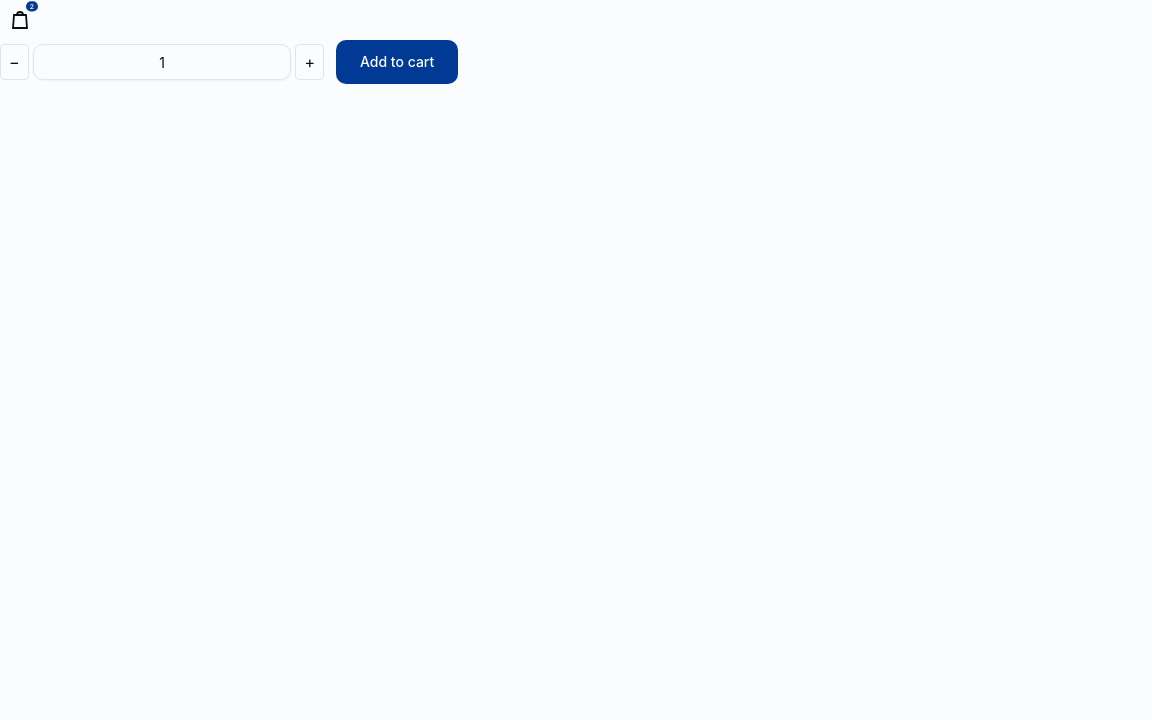
Test: cart UI › changes quantities and removes lines through the API
What coordinates should you click on to do the following:
click the button named "Open cart (2 items)"
I would click on:
 (20, 20)
Its box is 0,0 -> 40,40.
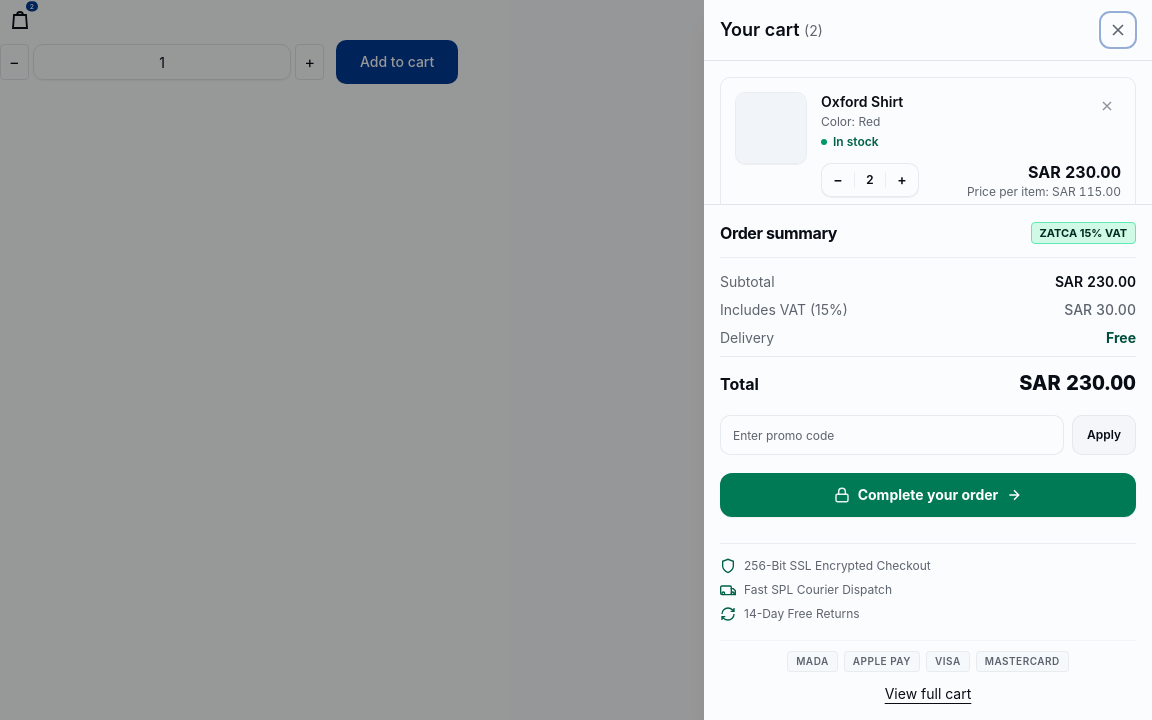
What coordinates should you click on to do the following:
click the button named "Fewer Oxford Shirt"
I would click on:
 (838, 180)
Its box is 822,164 -> 854,196.
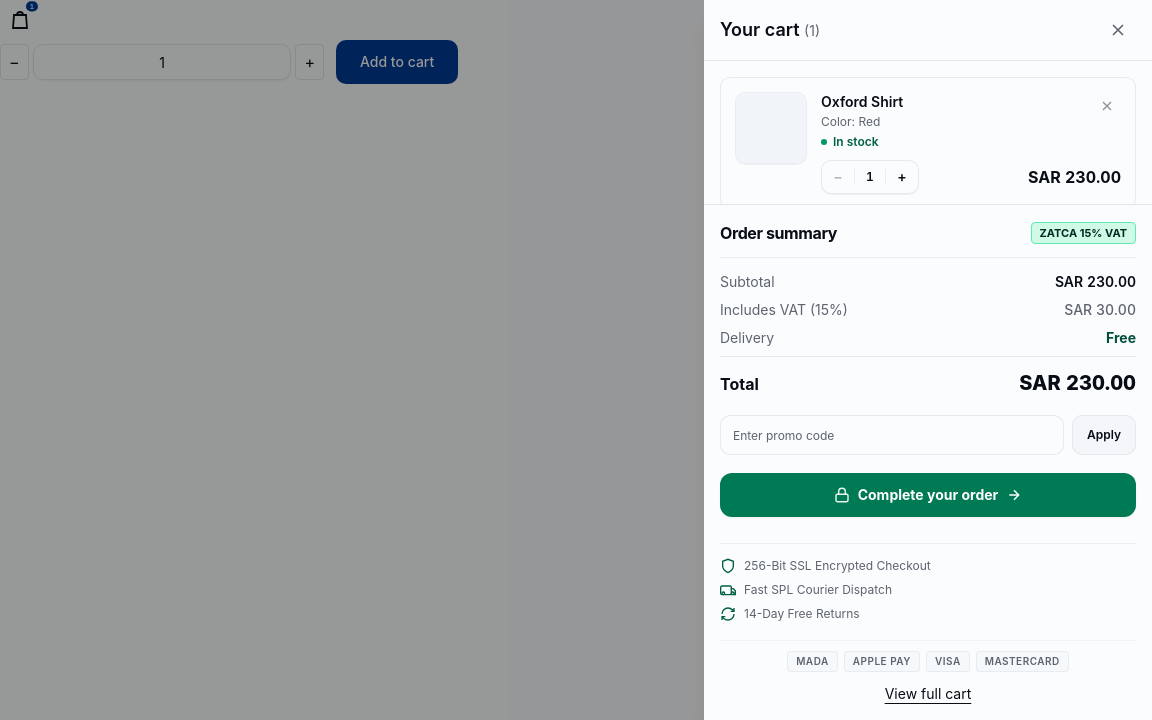
What coordinates should you click on to do the following:
click the button named "Remove Oxford Shirt"
I would click on:
 (1107, 106)
Its box is 1093,92 -> 1121,120.
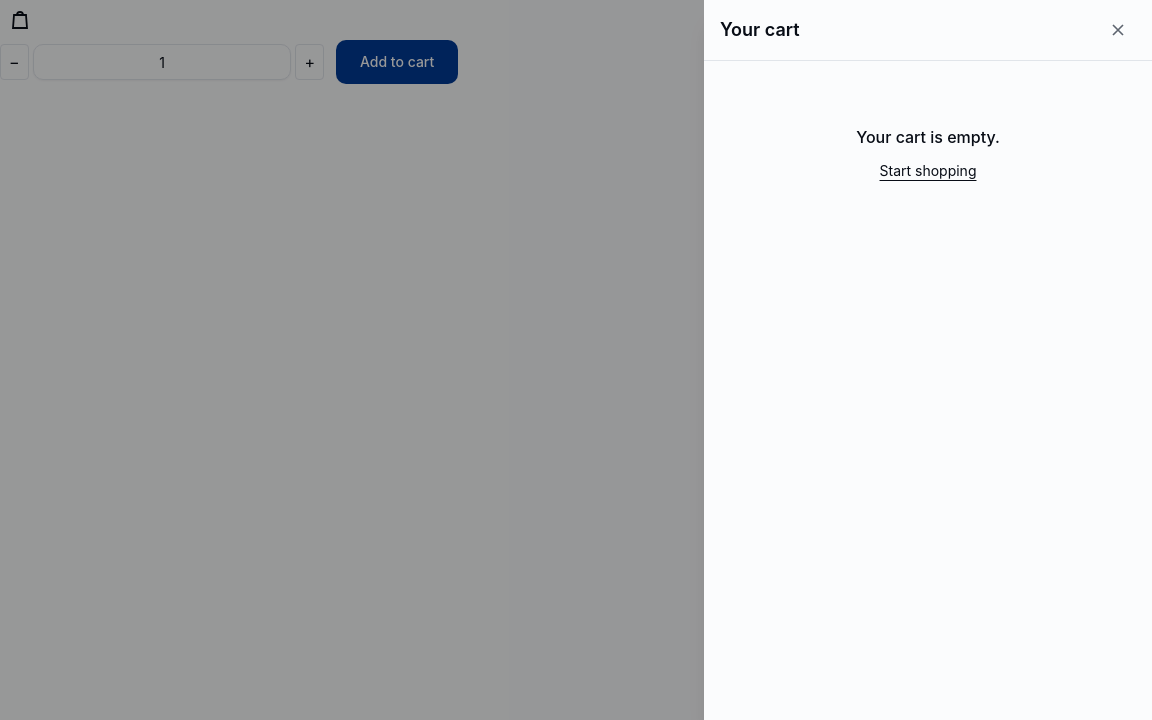
expect the text "Your cart is empty." is shown: met, box 856,127 -> 1000,147
